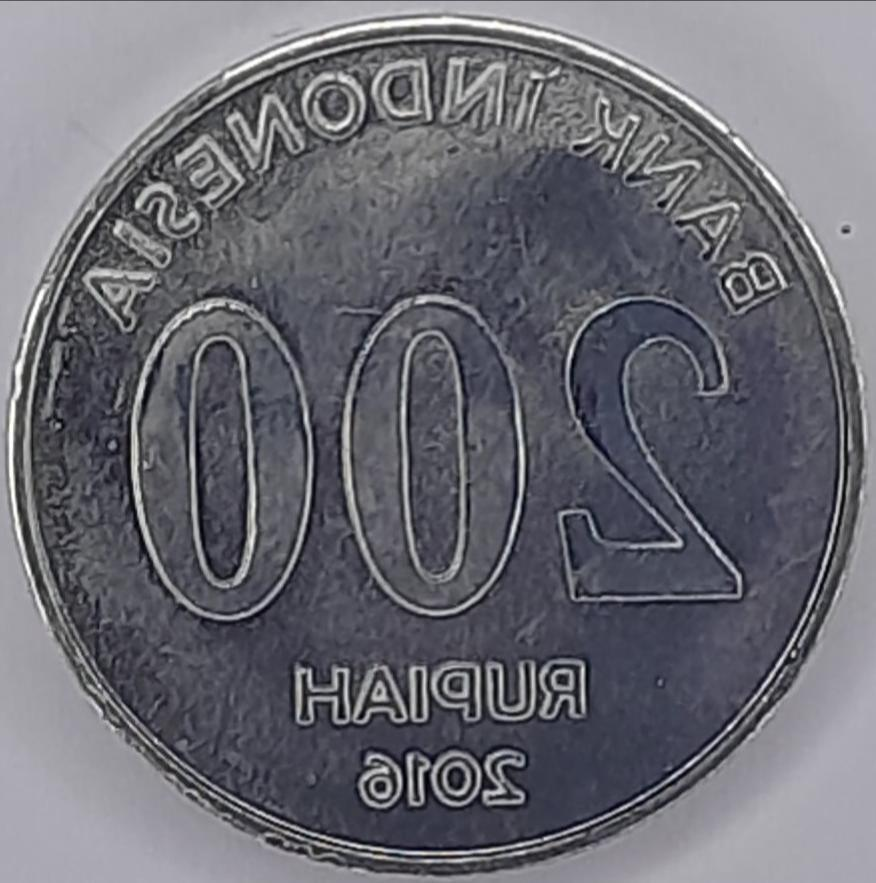coin_200_e2016: (0, 15, 876, 883)
